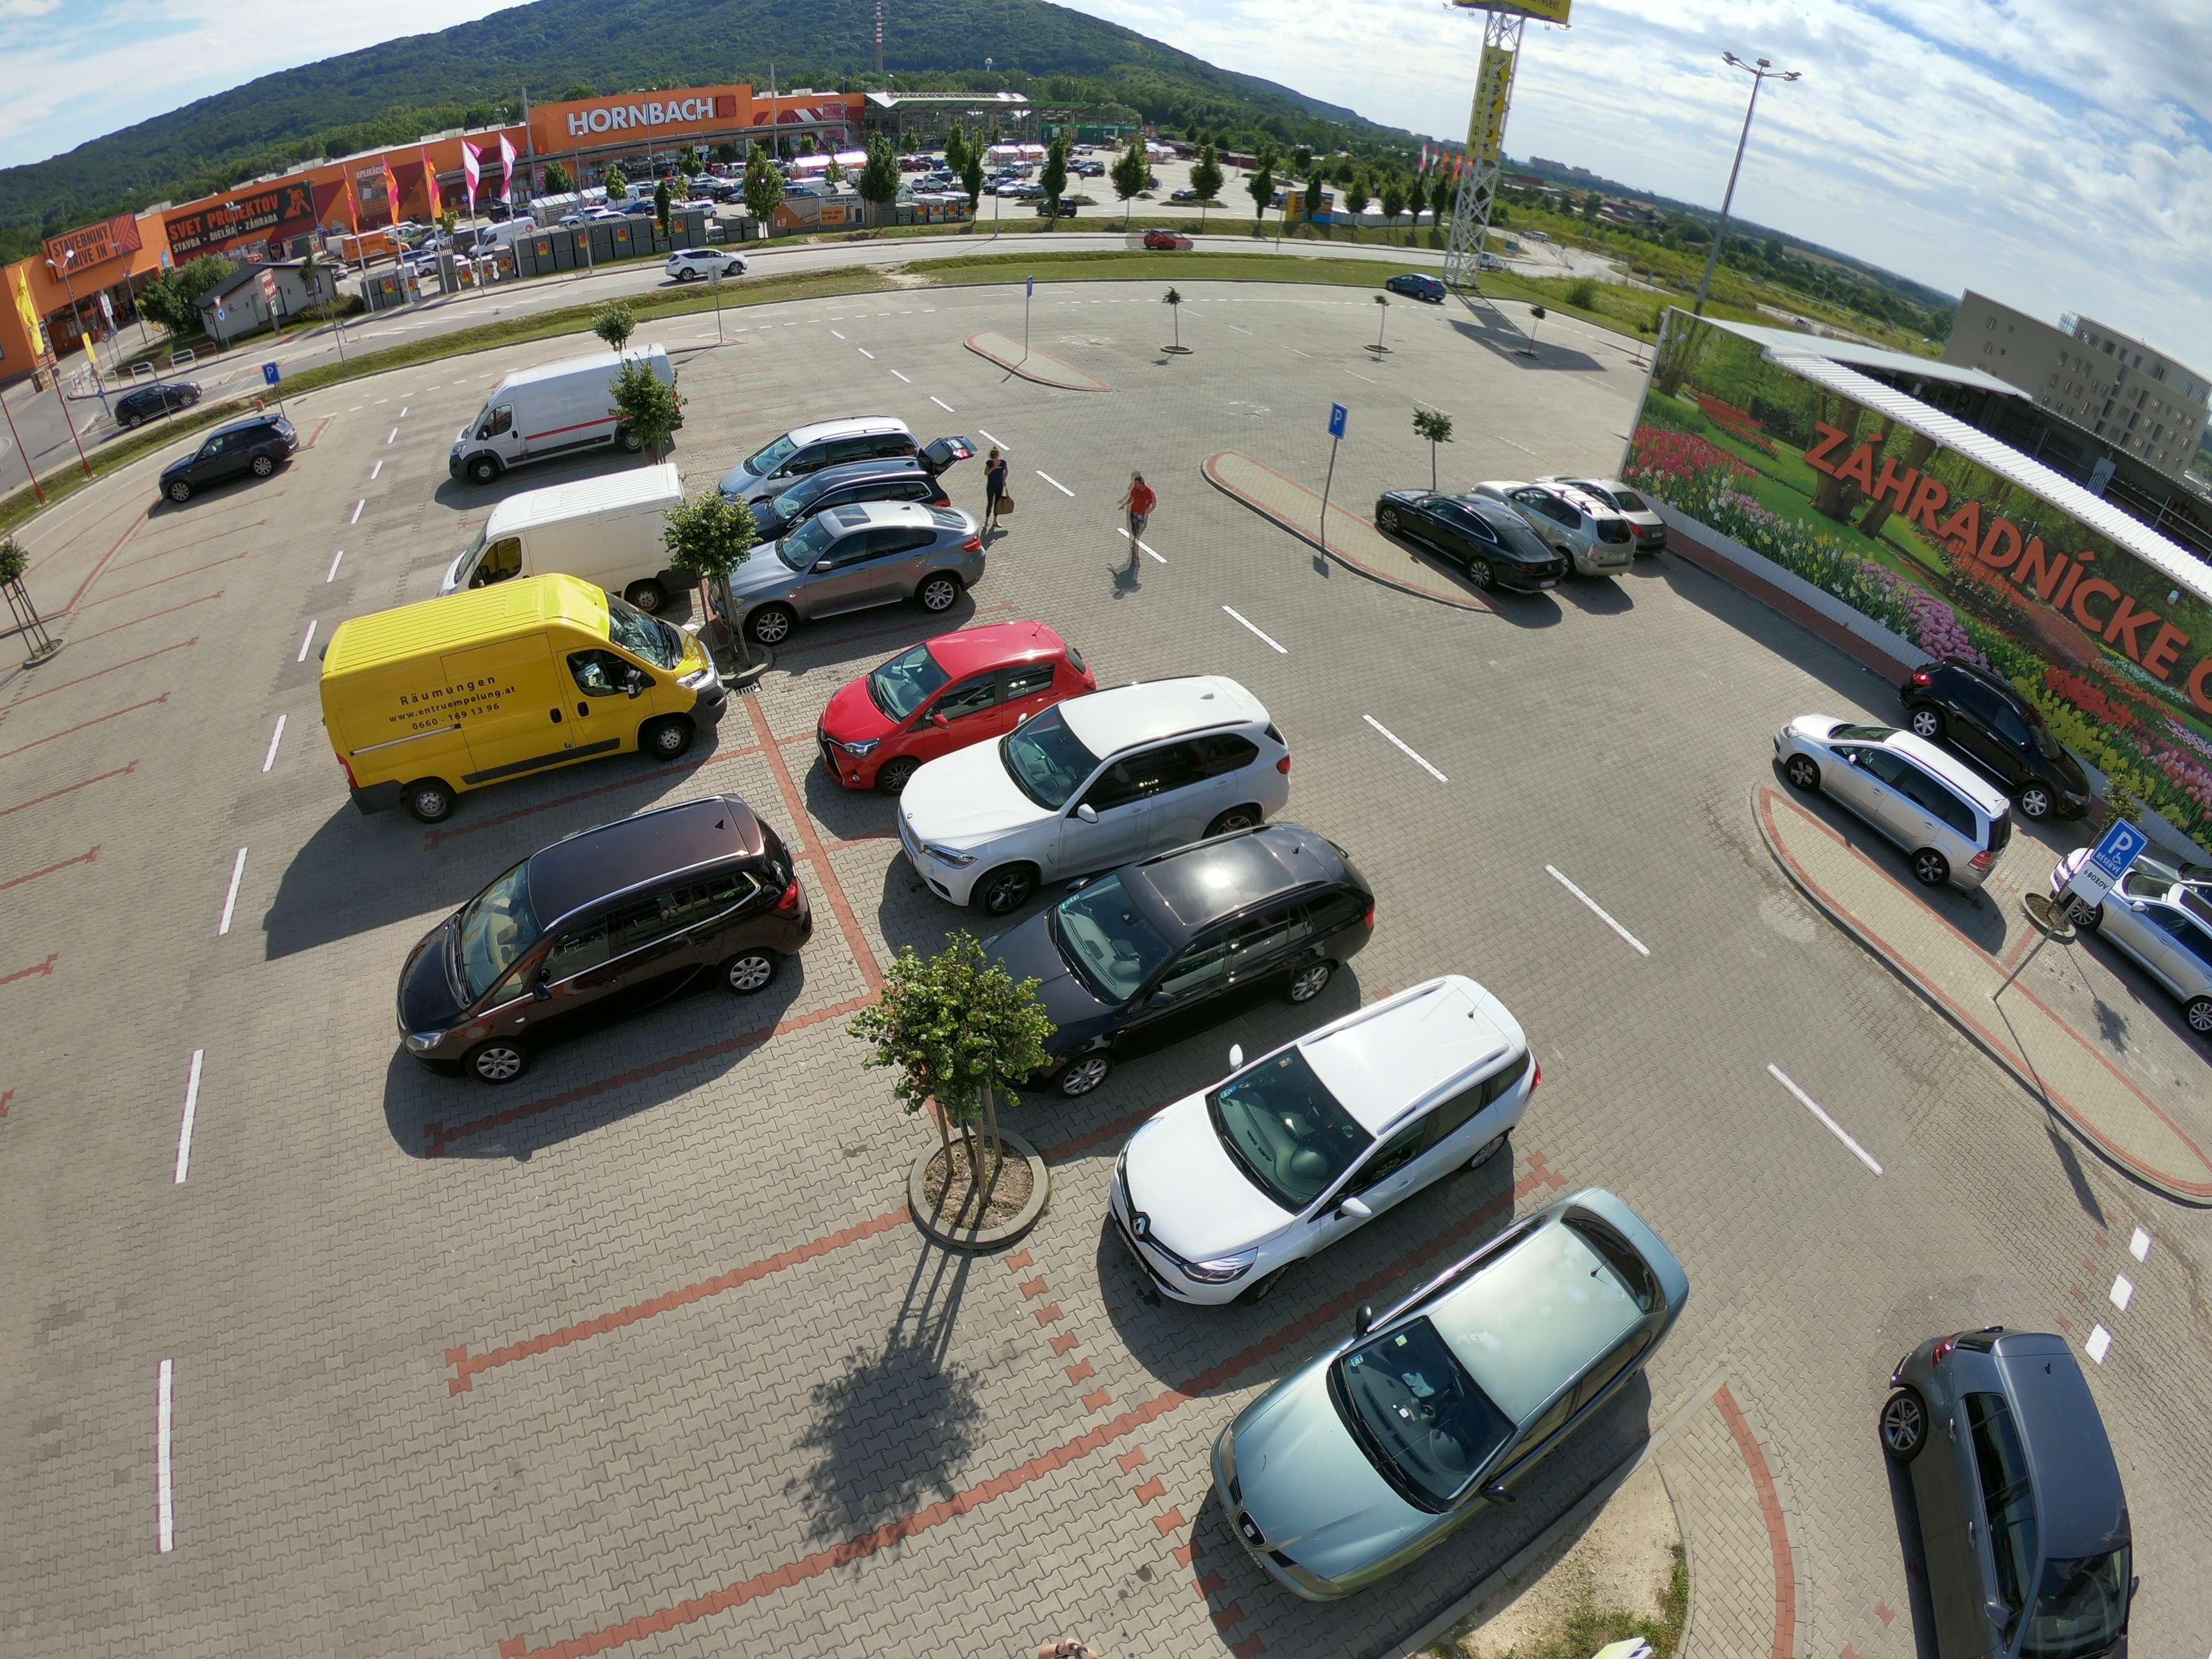empty: (1226, 1197, 1691, 1591), (1103, 978, 1540, 1310), (380, 809, 801, 1070), (982, 828, 1374, 1068), (1881, 1317, 2151, 1659), (909, 678, 1278, 889), (334, 619, 683, 807), (1773, 711, 2022, 896), (808, 622, 1082, 769), (738, 504, 996, 622), (439, 371, 674, 486), (714, 422, 986, 507), (1388, 491, 1564, 592), (1501, 471, 1662, 572), (152, 418, 301, 512)
occupied: (611, 1342, 846, 1551), (514, 1103, 730, 1288), (442, 793, 639, 880), (806, 608, 1007, 685), (507, 465, 667, 533), (24, 730, 120, 795), (0, 796, 82, 868), (99, 617, 174, 664), (51, 683, 122, 727), (138, 570, 192, 619)
